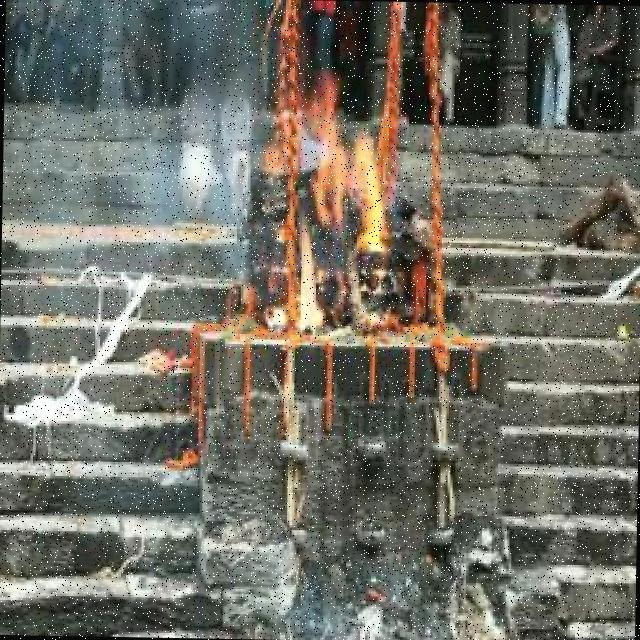Fire: (289, 80, 386, 339)
